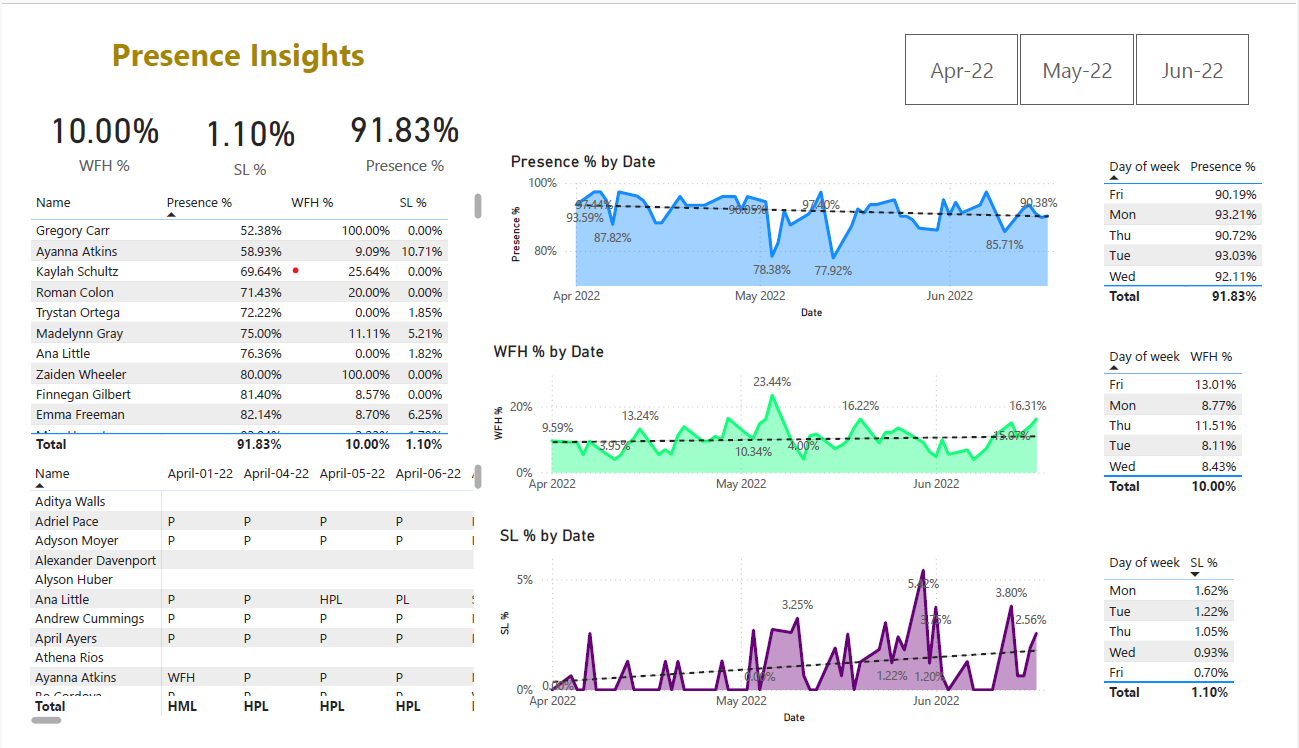

What the dashboard file says about the page in this screenshot:
{"tool":"powerbi","page":{"name":"Presence Overview","canvas":[1280,720],"ordinal":0},"visuals":[{"type":"card","fields":{"Values":["Measures Table.Presence %"]},"box":[306.7,70,166.7,85],"z":0},{"type":"slicer","fields":{"Values":["Final Data.Month"]},"box":[876.7,0,403.3,86.7],"z":1000},{"type":"card","fields":{"Values":["Measures Table.WFH %"]},"box":[0,75,161.7,76.7],"z":2000},{"type":"card","fields":{"Values":["Measures Table.SL %"]},"box":[155,70,151.7,93.3],"z":3000},{"type":"tableEx","fields":{"Values":["Final Data.Name","Measures Table.Presence %","Measures Table.WFH %","Measures Table.SL %"]},"box":[0,164,474,278],"z":4000},{"type":"textbox","box":[0,0,436.7,70],"z":5000},{"type":"pivotTable","fields":{"Rows":["Final Data.Name"],"Values":["Min(Final Data.Value)"],"Columns":["Final Data.Date"]},"box":[0,442,474,278],"z":6000},{"type":"areaChart","fields":{"Y":["Measures Table.Presence %"],"Category":["Final Data.Date"]},"box":[493.3,126.7,585,176.7],"z":7000},{"type":"areaChart","fields":{"Y":["Measures Table.WFH %"],"Category":["Final Data.Date"]},"box":[475,321.7,591.7,165],"z":8000},{"type":"areaChart","fields":{"Y":["Measures Table.SL %"],"Category":["Final Data.Date"]},"box":[481.7,511.7,585,208.3],"z":9000},{"type":"tableEx","fields":{"Values":["Final Data.Day of week","Measures Table.Presence %"]},"box":[1101.7,126.7,178.3,166.7],"z":9001},{"type":"tableEx","fields":{"Values":["Final Data.Day of week","Measures Table.WFH %"]},"box":[1101.7,321.7,178.3,166.7],"z":9002},{"type":"tableEx","fields":{"Values":["Final Data.Day of week","Measures Table.SL %"]},"box":[1101.7,533.3,178.3,166.7],"z":9003}]}

Visuals, with their boxes in screenshot pixels (x1, y1, x2, y2), scaled from the page's 1280x720 canvas onto the 1299x748 screenshot:
card - Measures Table.Presence %: 311, 73, 480, 161
slicer - Final Data.Month: 890, 0, 1298, 90
card - Measures Table.WFH %: 0, 78, 164, 158
card - Measures Table.SL %: 157, 73, 311, 170
tableEx - Final Data.Name x Measures Table.Presence %: 0, 170, 481, 459
textbox: 0, 0, 443, 73
pivotTable - Final Data.Name x Min(Final Data.Value): 0, 459, 481, 747
areaChart - Measures Table.Presence % x Final Data.Date: 501, 132, 1094, 315
areaChart - Measures Table.WFH % x Final Data.Date: 482, 334, 1083, 506
areaChart - Measures Table.SL % x Final Data.Date: 489, 532, 1083, 747
tableEx - Final Data.Day of week x Measures Table.Presence %: 1118, 132, 1298, 305
tableEx - Final Data.Day of week x Measures Table.WFH %: 1118, 334, 1298, 507
tableEx - Final Data.Day of week x Measures Table.SL %: 1118, 554, 1298, 727
